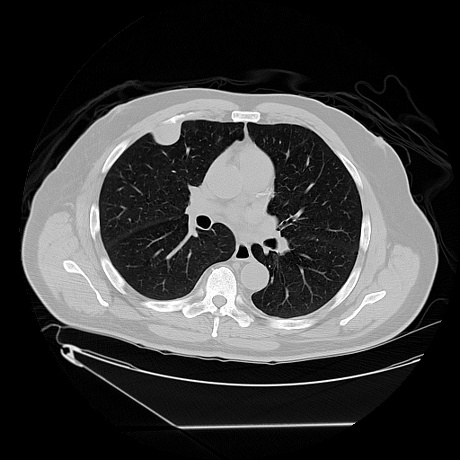PN: (155, 122, 179, 146)
